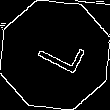L_NW: (26, 30, 84, 80)
